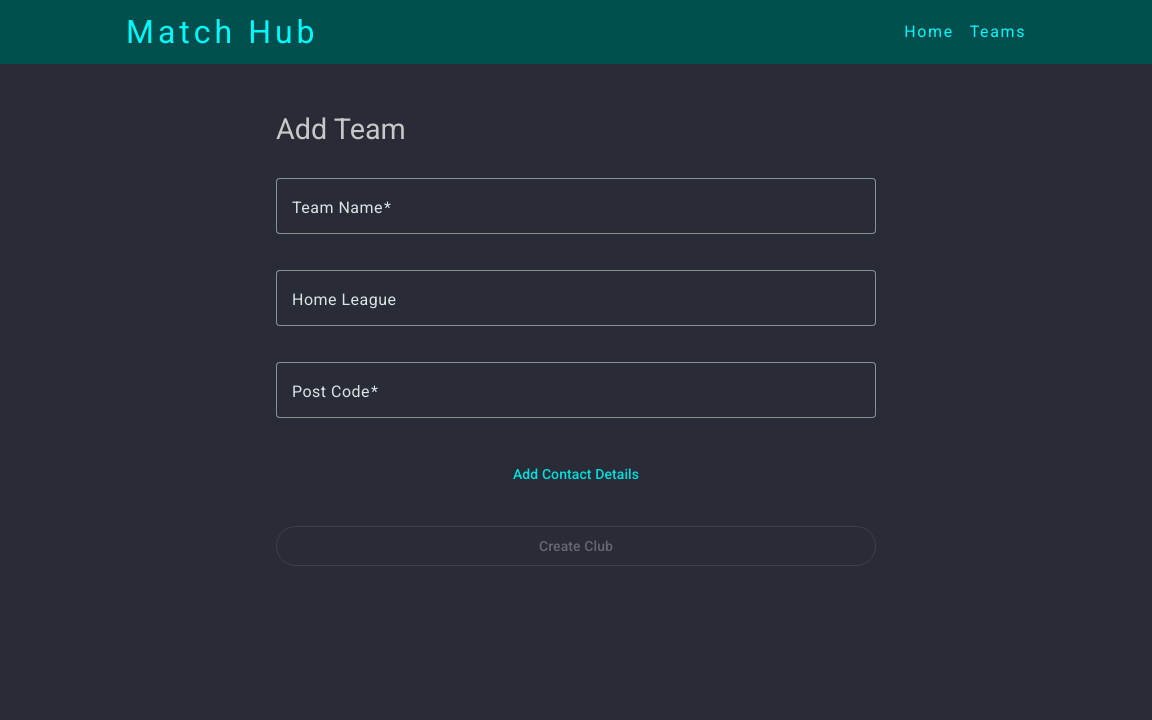
Test: The form should validate as expected › should validate outward post code portion incorrect correctly
Type "Binstead Reserves" into the element with class "data-input-name". click: (576, 216)
box: [276,178,876,254]
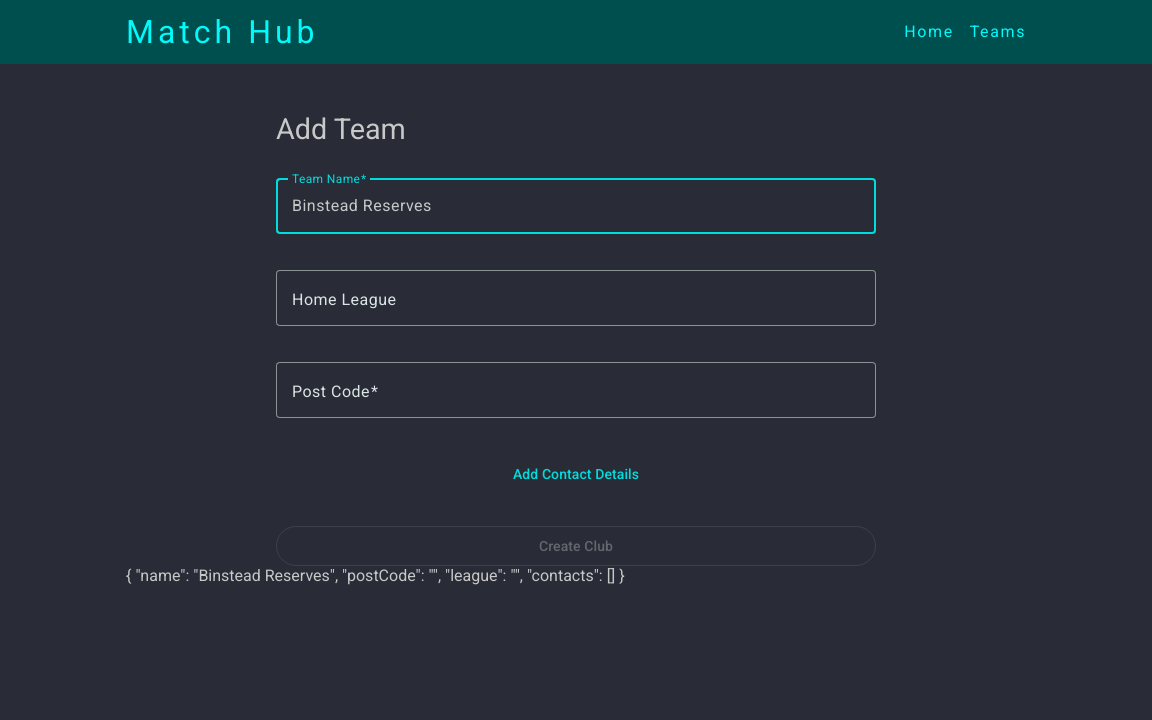
Type "LS1 abc" into the element with class "data-input-postcode". click: (576, 400)
box: [276,362,876,438]
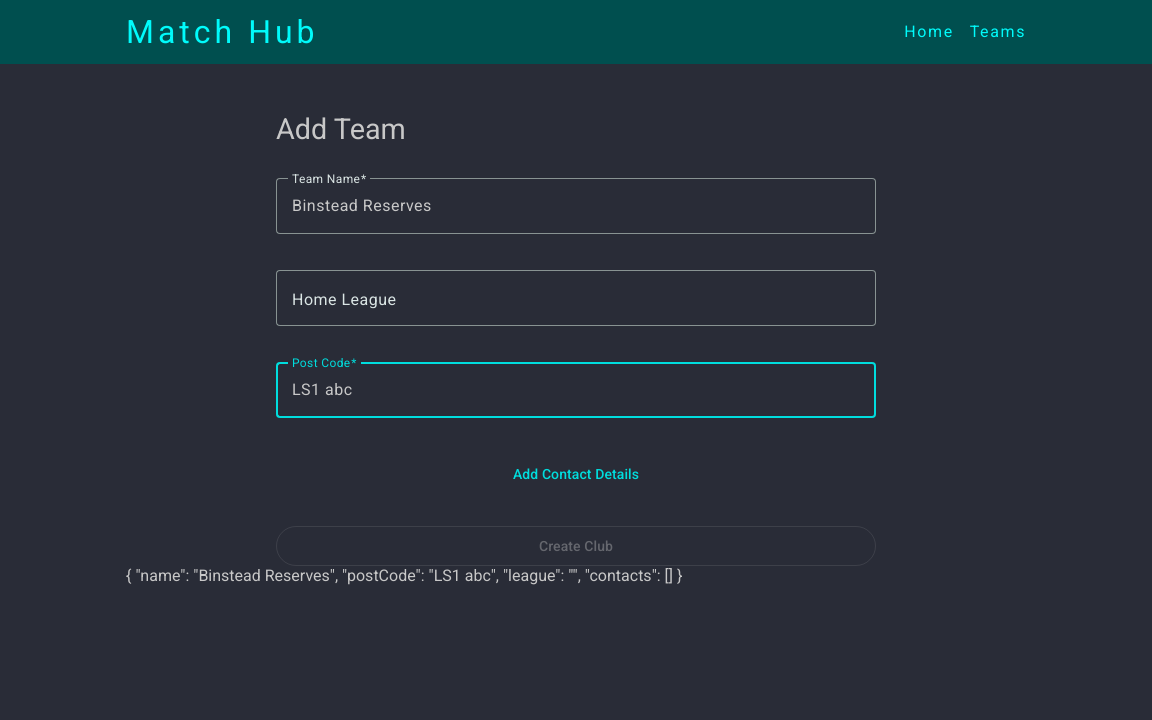
Focus the field labelled "Team Name". click: (576, 206)
box: [292,194,860,218]
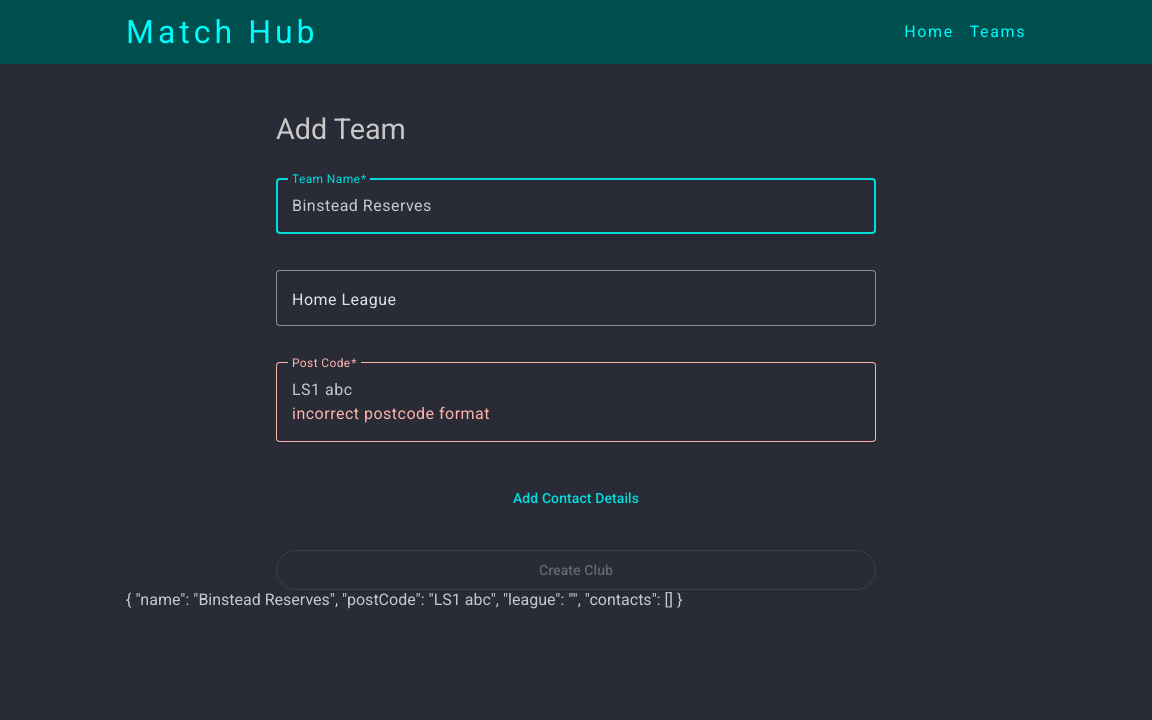
Expected: the button with class "data-submit" is disabled, [276,550,876,590]
Now the text "incorrect postcode format" is shown, box [292,404,490,423]
